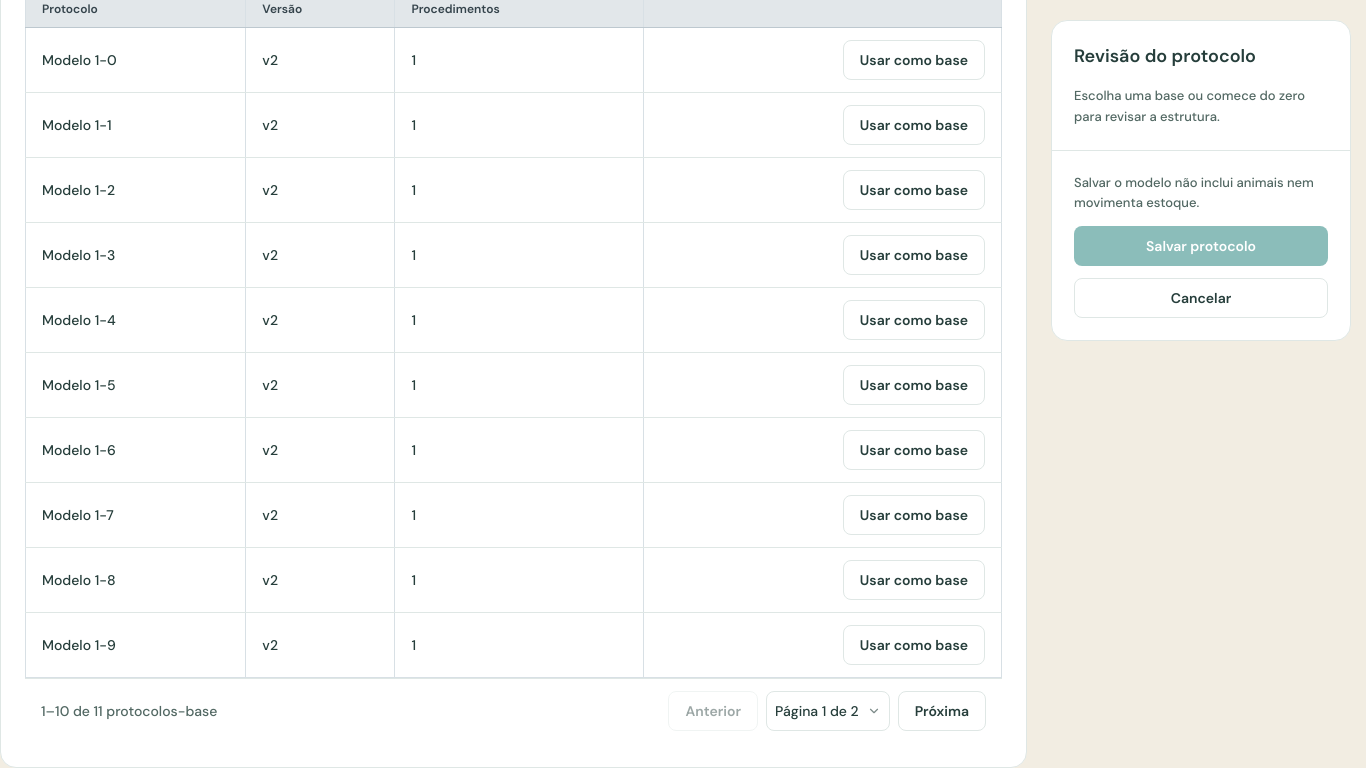
Test: herda o domínio da rota e lista bases em páginas de dez sem rascunho ou área
(page scrolled)
Check: the text "Modelo 1-0" is shown, box [26,28,246,93]
Click the button "Próxima": (942, 711) [898,691,986,731]
(page scrolled)
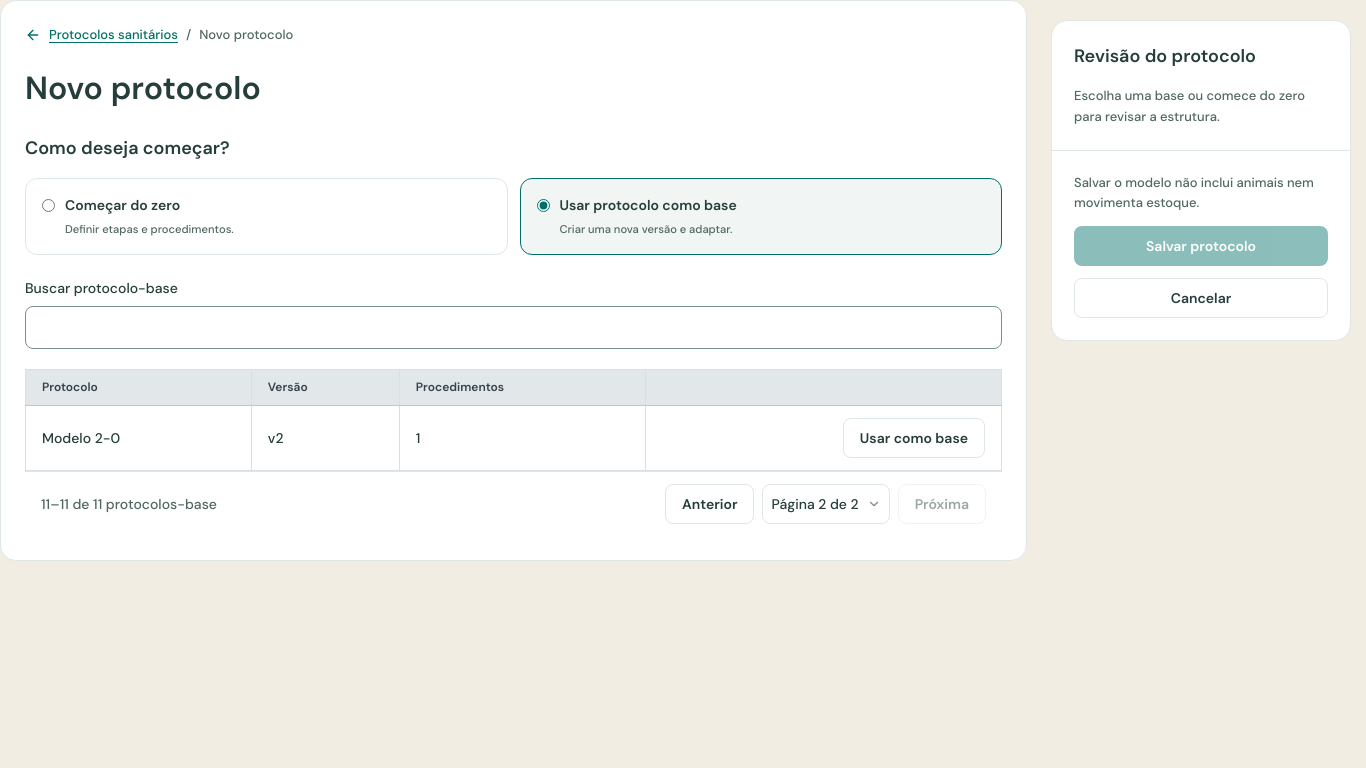
Check: the text "Modelo 2-0" is shown, box [26,406,251,471]
Check: the number of buttons named "Usar Modelo" is 1, box [843,418,985,458]
